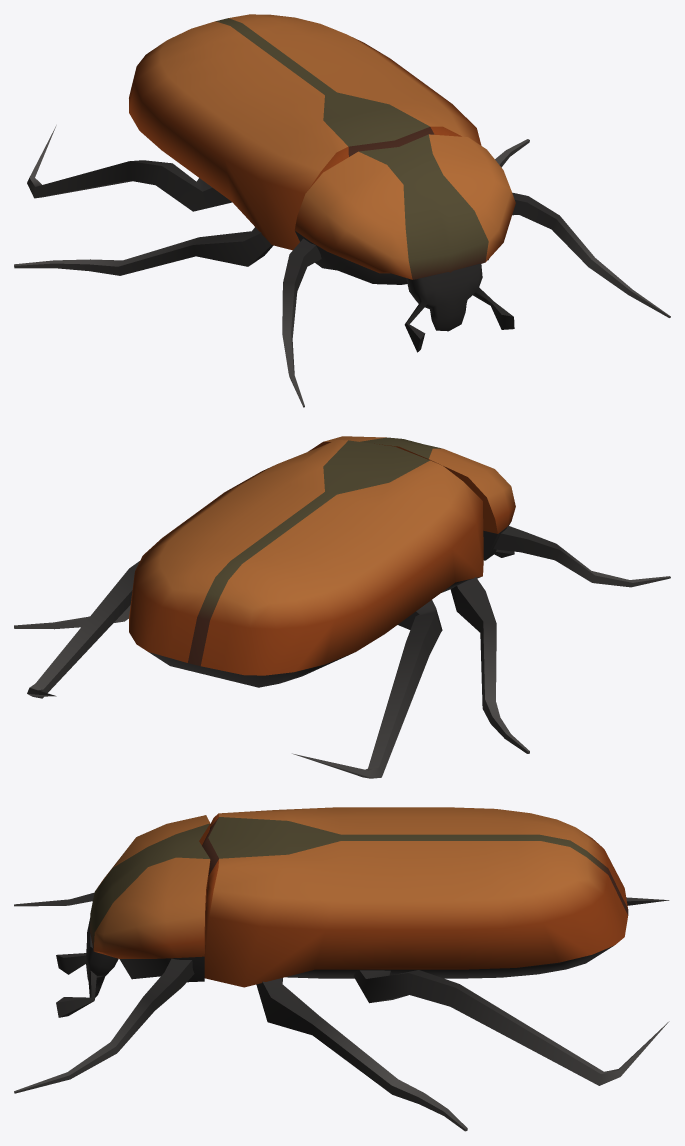
Rendered from animals-insects-cowboybeetle_v1.fbx.
3 views of the same model, one above another, from view 1: azimuth 30°, elevation 25°; view 2: azimuth 150°, elevation 25°; view 3: azimuth 270°, elevation 25° (orthographic). The views are drawn at different scales.
Visible parts, largest first — view 1: CowboyBeetle.001; view 2: CowboyBeetle.001; view 3: CowboyBeetle.001.
Part boxes in pixels (bbox=[...]): CowboyBeetle.001: bbox=[14, 14, 670, 407]; CowboyBeetle.001: bbox=[14, 436, 670, 778]; CowboyBeetle.001: bbox=[14, 807, 669, 1131].
Size of the model in its own units: 1.89 by 0.5414 by 1.99.
